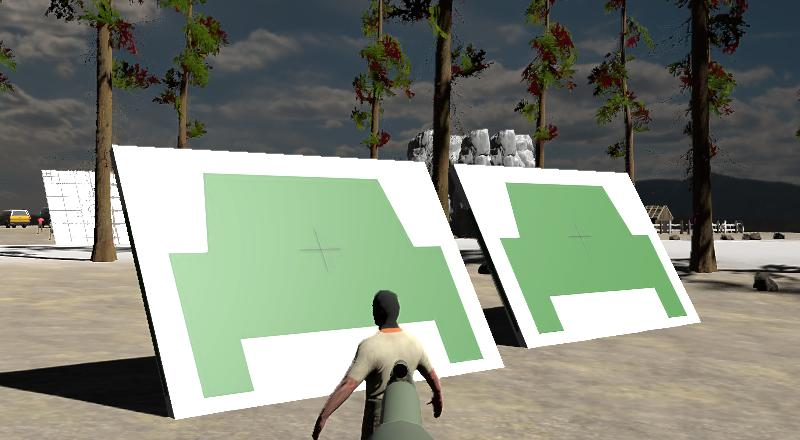House: (650, 203, 673, 231)
Human: (308, 287, 447, 440), (36, 214, 46, 232)
car: (0, 207, 33, 230)
